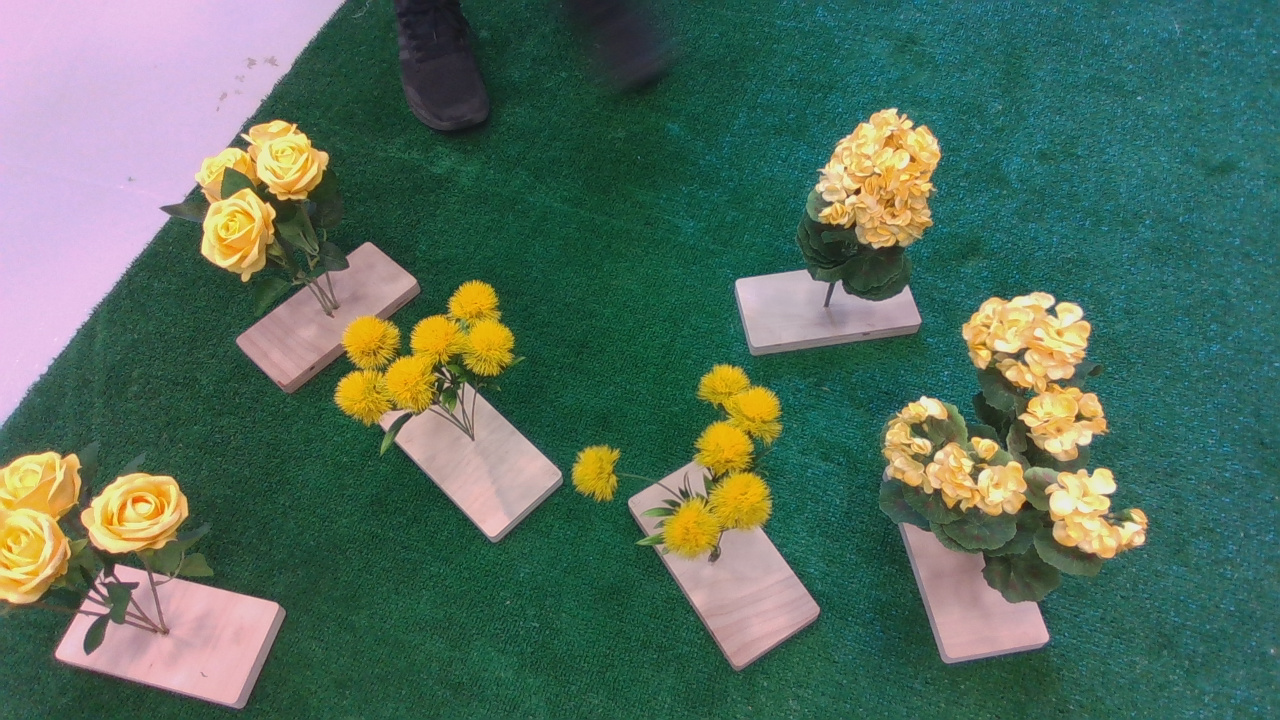dandelion: (582, 369, 799, 566), (328, 284, 547, 435)
geranium: (888, 294, 1162, 612), (795, 95, 952, 311)
rose: (0, 451, 205, 615), (172, 119, 356, 281)
